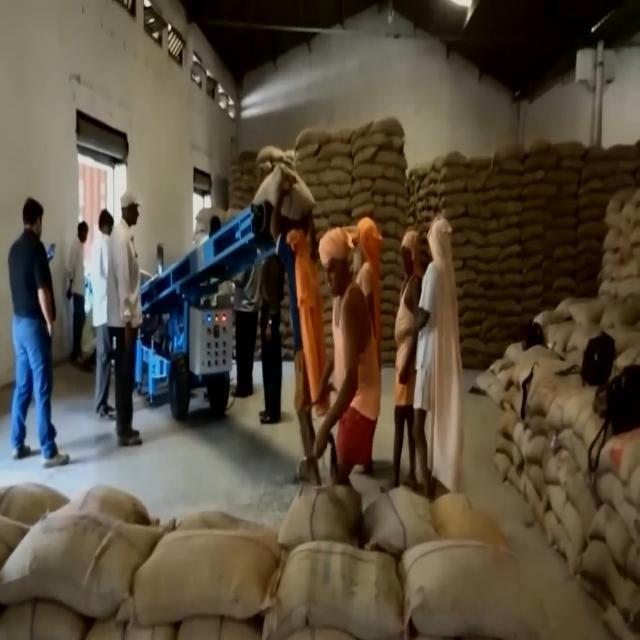gunny_bag: (0, 511, 171, 626), (126, 524, 287, 628), (398, 540, 556, 640), (261, 539, 408, 640), (573, 532, 640, 620), (276, 482, 364, 548), (360, 485, 438, 557), (545, 446, 602, 534), (252, 157, 314, 226), (589, 502, 638, 584), (593, 472, 640, 550), (595, 426, 639, 504), (542, 482, 586, 554), (566, 290, 620, 322), (352, 113, 406, 141), (441, 188, 498, 214), (580, 161, 637, 183), (284, 127, 332, 148), (487, 222, 525, 248), (476, 298, 520, 320), (492, 140, 528, 166), (473, 256, 525, 274), (550, 140, 592, 162), (366, 176, 407, 198), (346, 142, 382, 164), (310, 199, 353, 217), (491, 144, 526, 166), (368, 206, 406, 226), (518, 180, 556, 200), (542, 222, 580, 242), (602, 144, 636, 164), (438, 150, 470, 170), (371, 153, 406, 170), (544, 198, 580, 214), (548, 274, 580, 292), (445, 218, 485, 232), (325, 154, 354, 170)
